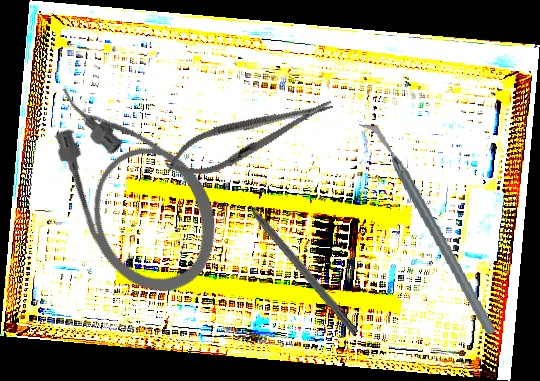Cannula: (26, 52, 240, 314)
Chopper: (358, 108, 497, 346)
Hook Surgical: (233, 186, 361, 337)
Needle Holder: (160, 84, 340, 189)
